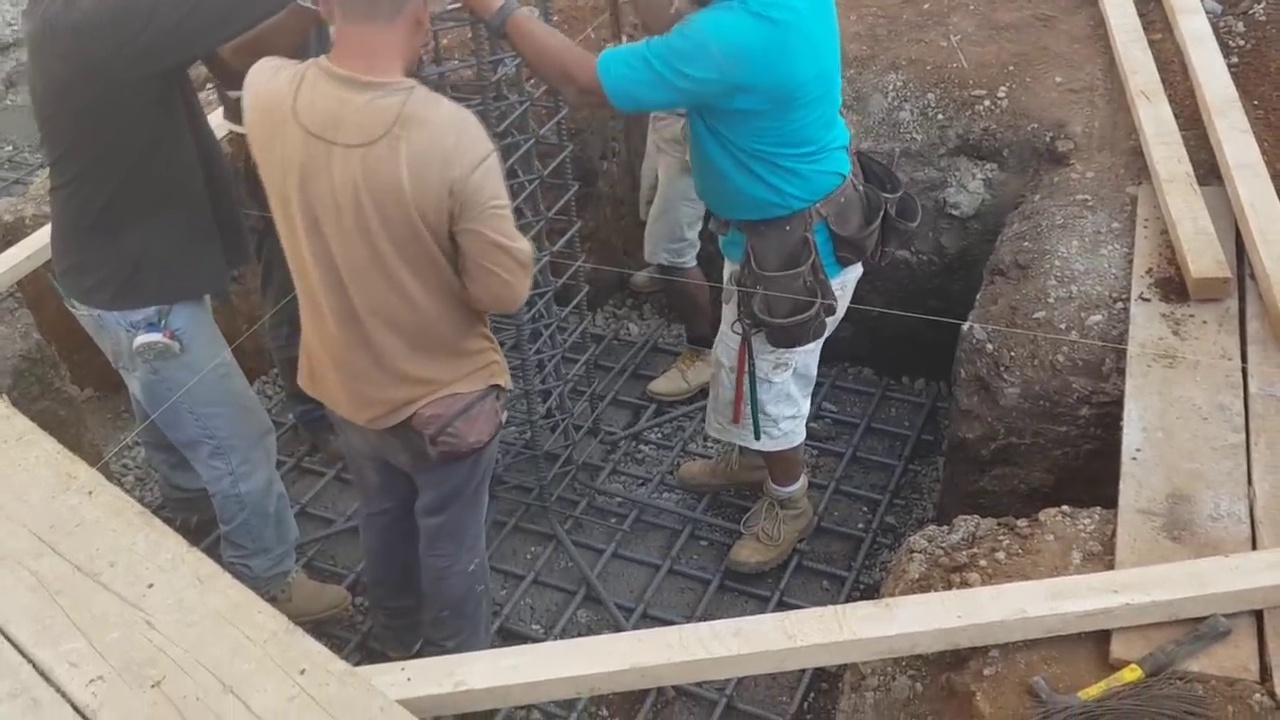person: (465, 0, 877, 556), (254, 0, 539, 668), (21, 0, 290, 624), (624, 94, 706, 407)
